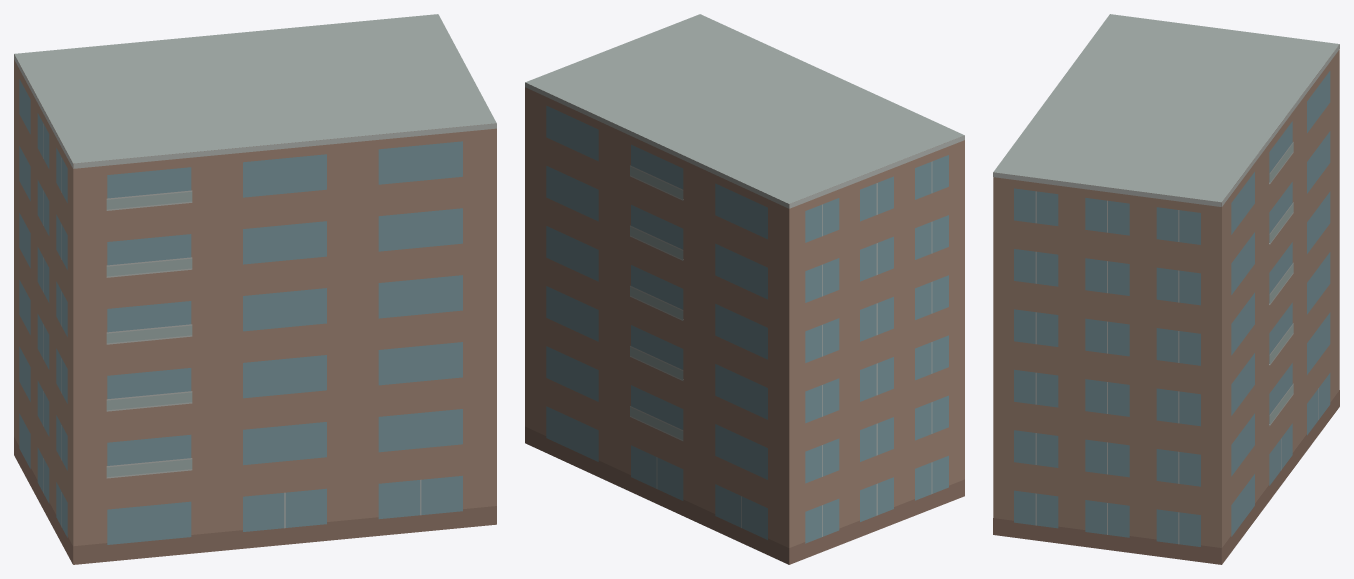
Rendered from survey-upis-32525574.glb.
The picture shows the model from 3 angles, left to right: view 1: azimuth 30°, elevation 25°; view 2: azimuth 150°, elevation 25°; view 3: azimuth 270°, elevation 25°; orthographic projection. The views are drawn at different scales.
Parts seen in each view (by area): view 1: survey-upis-32525574.tmp; view 2: survey-upis-32525574.tmp; view 3: survey-upis-32525574.tmp.
Boxes of the visible parts, x1,y1,x2,y2 form: survey-upis-32525574.tmp: (14,14,496,564); survey-upis-32525574.tmp: (525,14,964,564); survey-upis-32525574.tmp: (993,14,1339,564).
Size of the model in its own units: 20.39 by 18.3 by 15.87.
